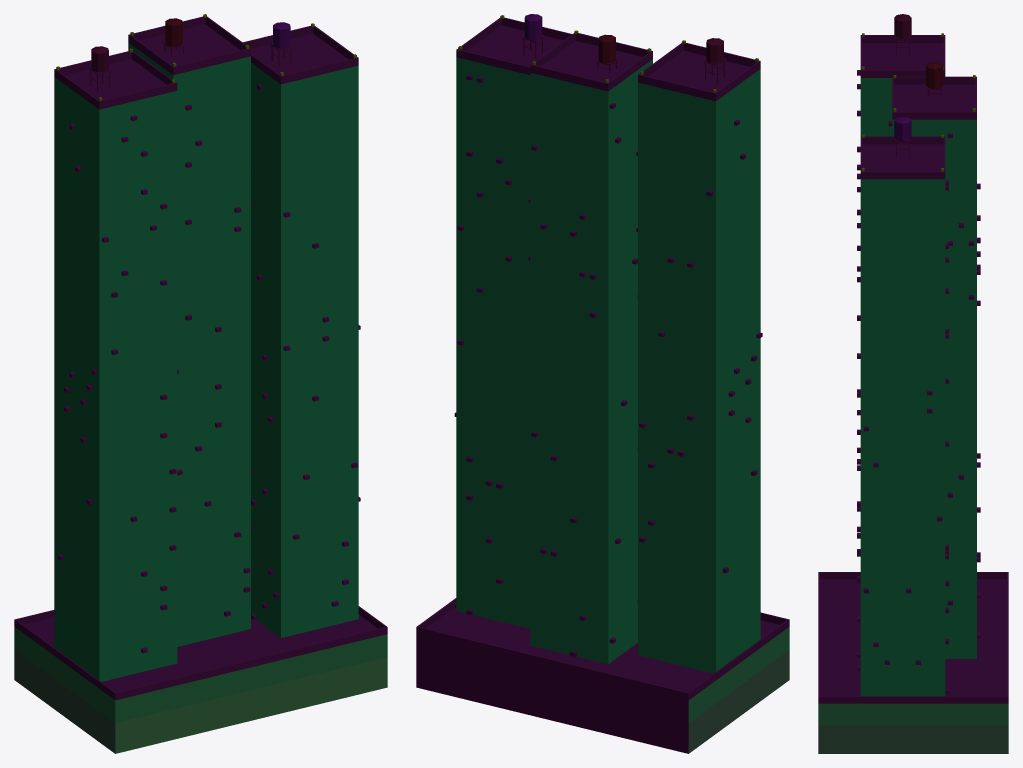
File: estate_b.glb
3 renders of one model, left to right at view 1: azimuth 30°, elevation 25°; view 2: azimuth 150°, elevation 25°; view 3: azimuth 270°, elevation 25°, orthographic. The views are drawn at different scales.
Visible parts, largest first — view 1: estate_b; view 2: estate_b; view 3: estate_b.
Boxes of the visible parts, bbox=[...] form: estate_b: bbox=[14, 14, 387, 753]; estate_b: bbox=[416, 14, 789, 753]; estate_b: bbox=[818, 14, 1008, 753].
Bounding box in the file's own units: 44.8 × 105 × 28.8.
